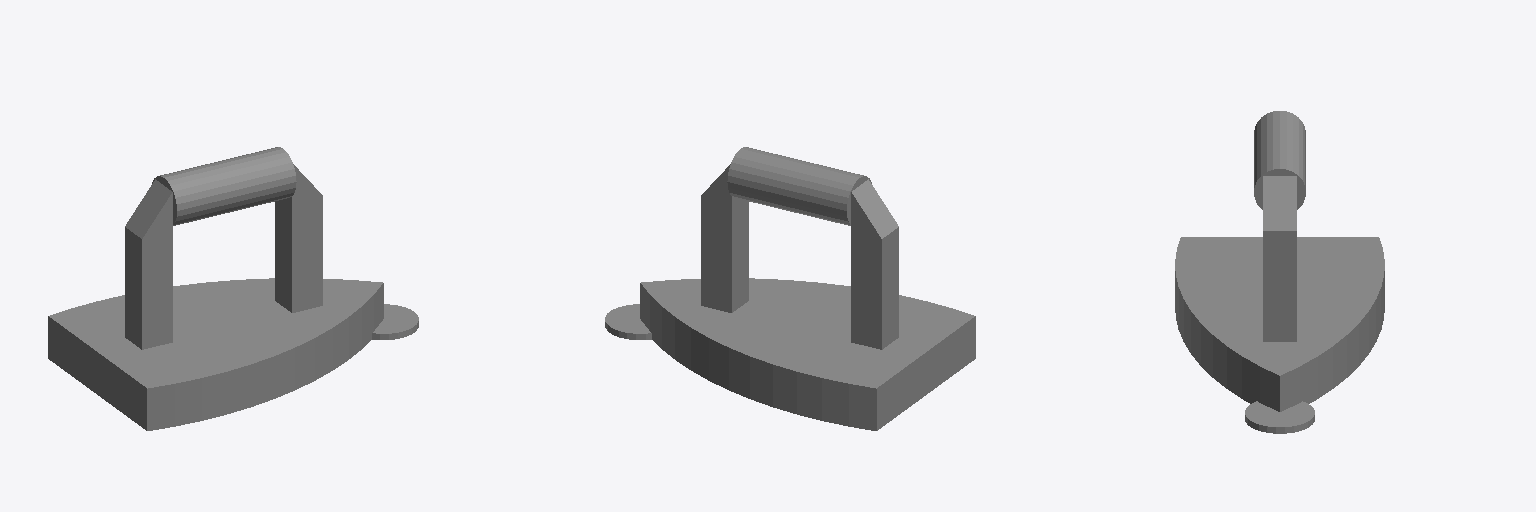
The model's file is Iron.obj.
3 renders of one model, left to right at view 1: azimuth 30°, elevation 25°; view 2: azimuth 150°, elevation 25°; view 3: azimuth 270°, elevation 25°, orthographic.
Visible parts, largest first — view 1: Iron_Monopoly.002; view 2: Iron_Monopoly.002; view 3: Iron_Monopoly.002.
Boxes of the visible parts, <box> form: Iron_Monopoly.002: <box>48,147,418,430</box>; Iron_Monopoly.002: <box>605,147,975,430</box>; Iron_Monopoly.002: <box>1175,111,1384,433</box>.
Bounding box in the file's own units: 1.38 × 0.8384 × 0.7921.